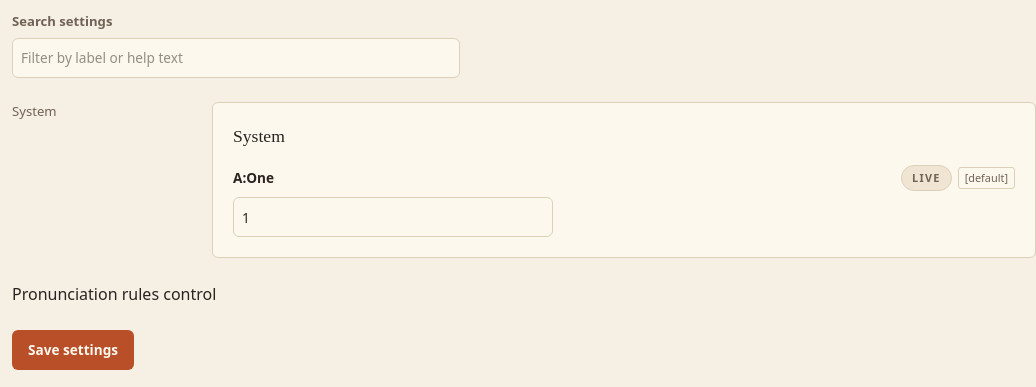
Test: Feature: Settings page renders the descriptor › Scenario: trailingContent while searching (M5) › hides trailingContent while the search box has text
This screenshot has width=1036, height=387.
In the search field labelled "Search settings": (236, 58) [12,38,460,78], type "one"
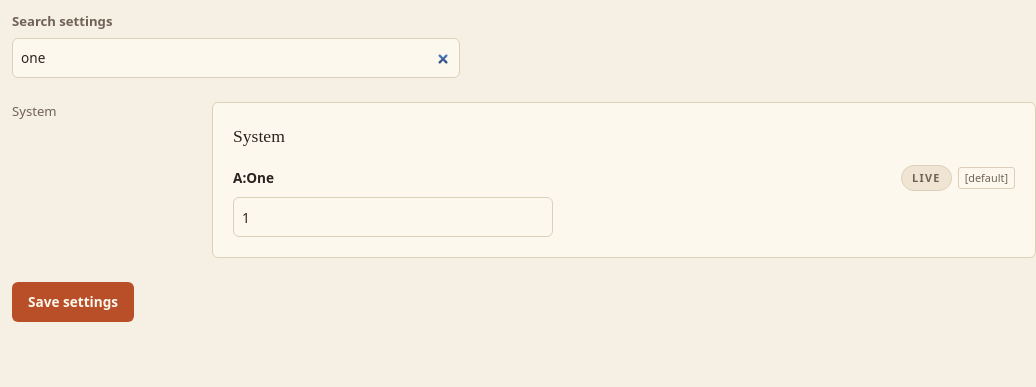
Now the text "Pronunciation rules control" is gone
